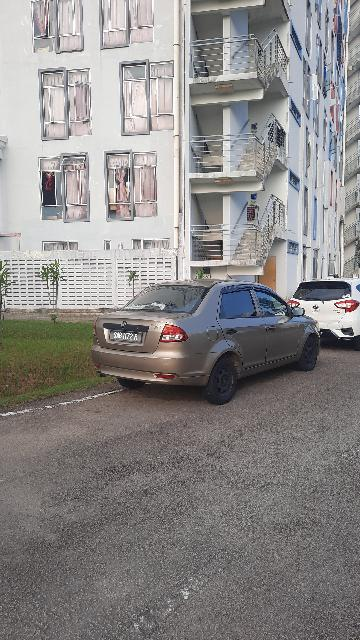License_Plate: (108, 329, 145, 345)
car: (90, 278, 323, 408), (285, 274, 360, 357)
